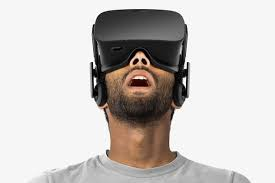oculus: (88, 10, 193, 84)
